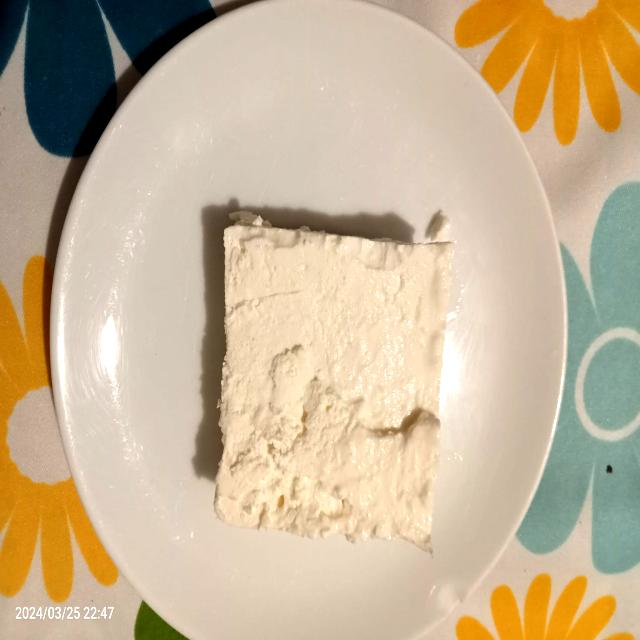cheese: (193, 195, 472, 560)
